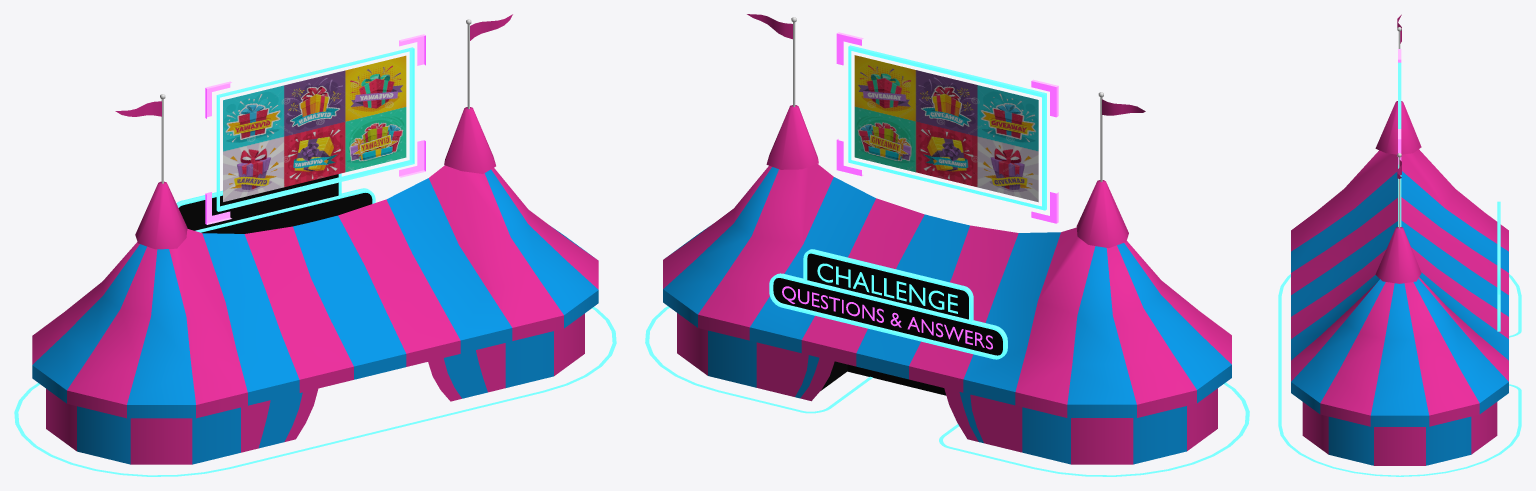
The model's file is tentQA.glb.
3 views of the same model, side by side, from view 1: azimuth 30°, elevation 25°; view 2: azimuth 150°, elevation 25°; view 3: azimuth 270°, elevation 25° (orthographic). The views are drawn at different scales.
Visible parts, largest first — view 1: tent, Plane.001, Plane.009, Plane.008, Plane.018, Plane.029, Plane.006; view 2: tent, Plane.001, Plane.008, Plane.009, Plane.006, Plane.018, Plane.029, Text.009, Plane.007, Text.008; view 3: tent, Plane.018, Plane.001, Plane.007.
Part boxes in pixels (<box>): tent: <box>32,14,598,464</box>; Plane.001: <box>216,47,414,211</box>; Plane.009: <box>178,174,338,230</box>; Plane.008: <box>201,193,372,233</box>; Plane.018: <box>14,307,616,476</box>; Plane.029: <box>205,34,425,224</box>; Plane.006: <box>195,188,375,232</box>; tent: <box>663,14,1231,464</box>; Plane.001: <box>848,45,1046,210</box>; Plane.008: <box>773,278,1002,355</box>; Plane.009: <box>807,253,968,319</box>; Plane.006: <box>769,273,1007,359</box>; Plane.018: <box>645,306,1249,476</box>; Plane.029: <box>836,32,1058,223</box>; Text.009: <box>782,286,992,349</box>; Plane.007: <box>803,249,973,321</box>; Text.008: <box>817,263,957,313</box>; tent: <box>1291,14,1508,465</box>; Plane.018: <box>1278,274,1521,476</box>; Plane.001: <box>1398,62,1401,226</box>; Plane.007: <box>1497,201,1500,294</box>.
Bounding box in the file's own units: 29.38 × 16.01 × 13.02.
8 materials, 1 textured.
